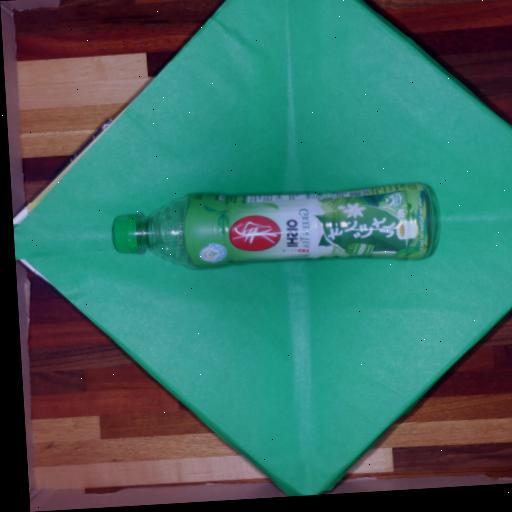bottle: (113, 184, 434, 268)
